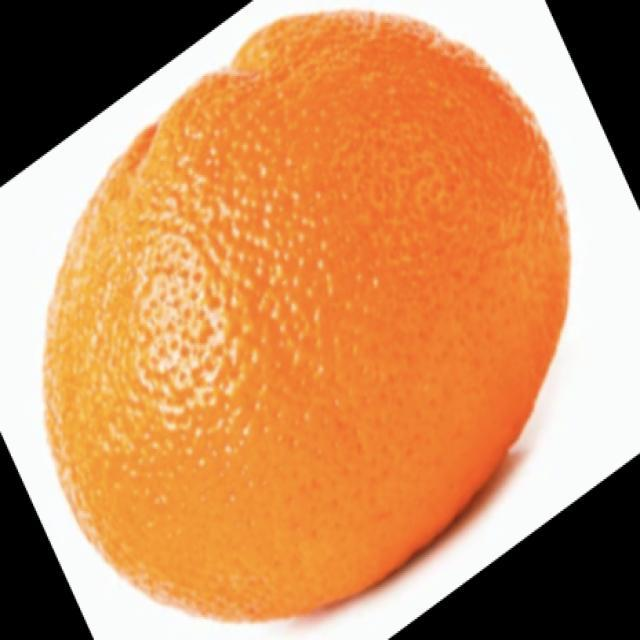Orange: (40, 6, 572, 624)
